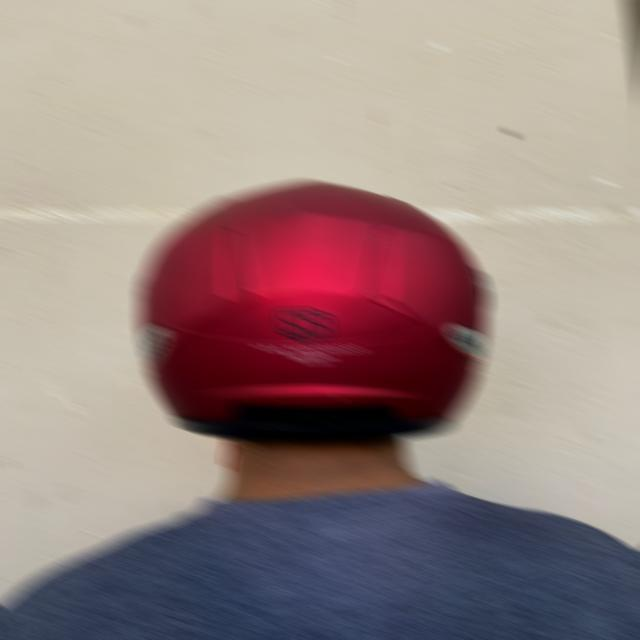With Helmet: (132, 179, 491, 444)
